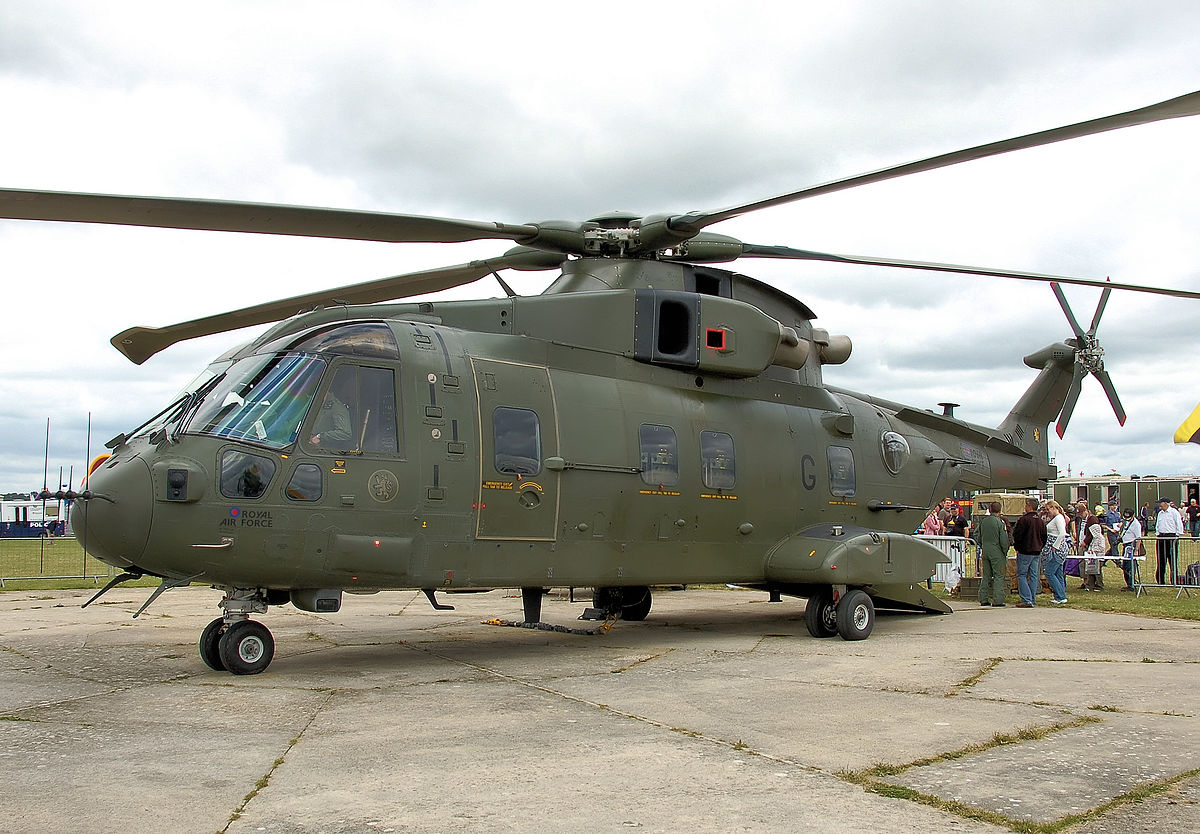Merlin: (1, 81, 1198, 680)
